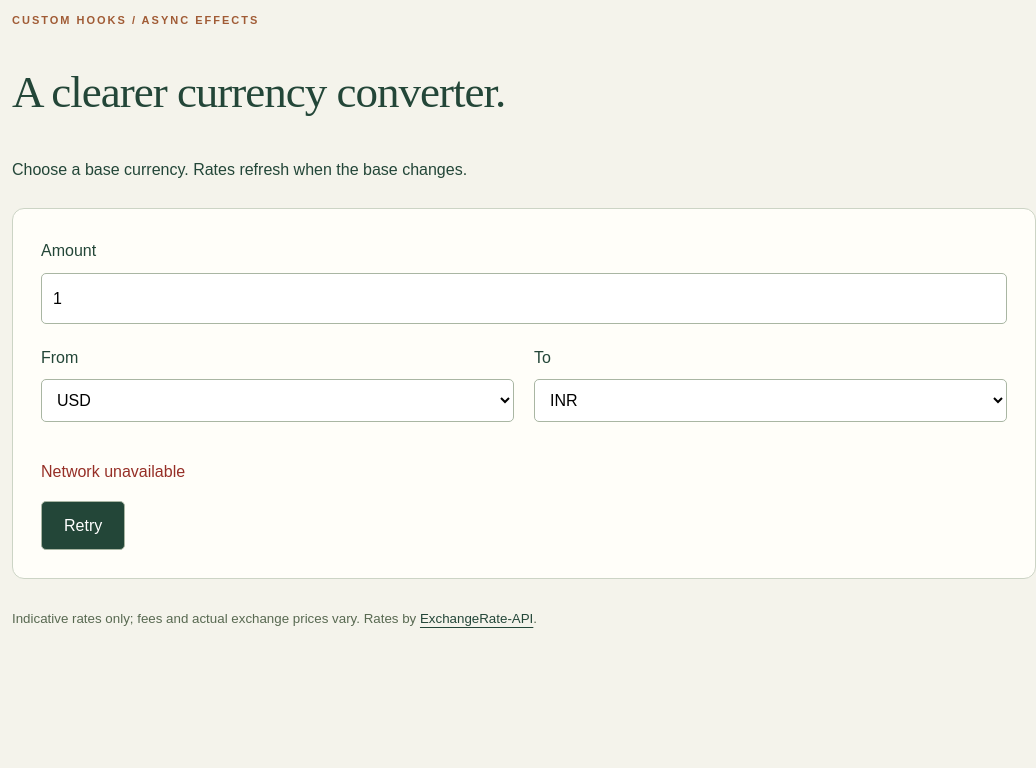
Test: reports network failures and recovers with retry
Expected: the message shows "Network unavailable", [41,463,185,480]
Click the button "Retry" at (83, 526), box [41,501,125,550]
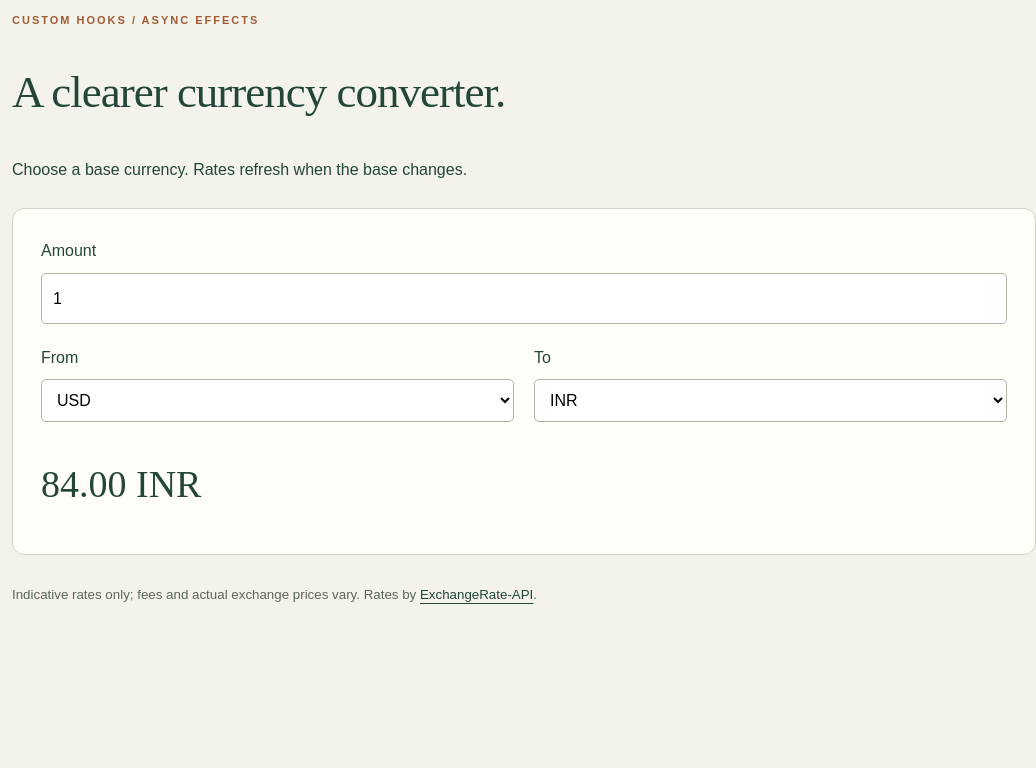
Expected: the text "84.00 INR" is shown, [41,463,202,505]
